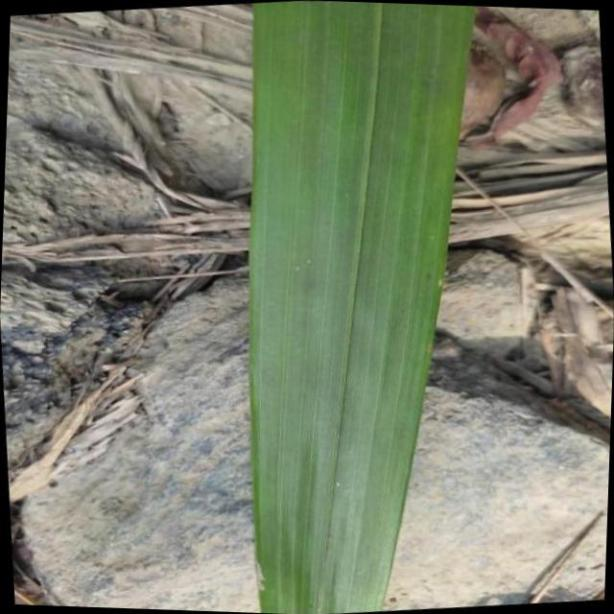Healthy: (248, 0, 475, 614)
